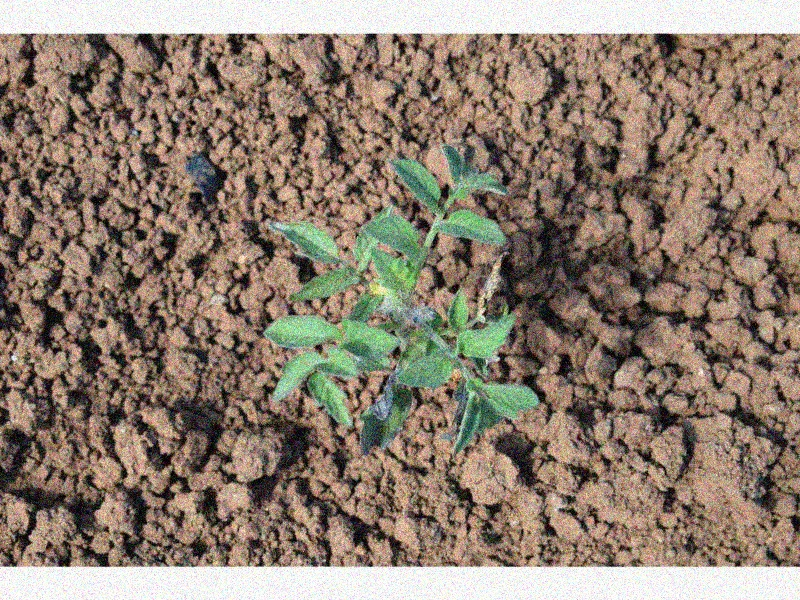tomato: (264, 142, 538, 454)
